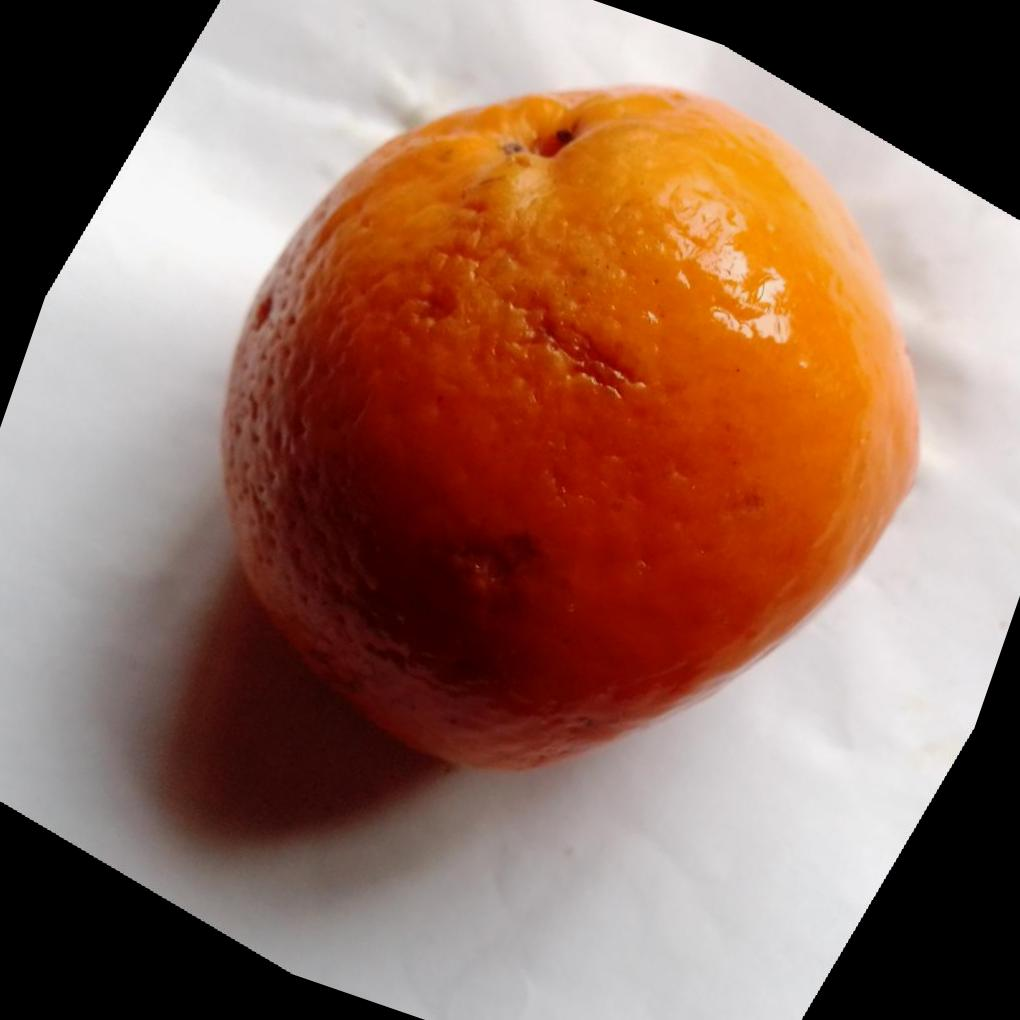FreshOrange: (219, 81, 924, 772)
